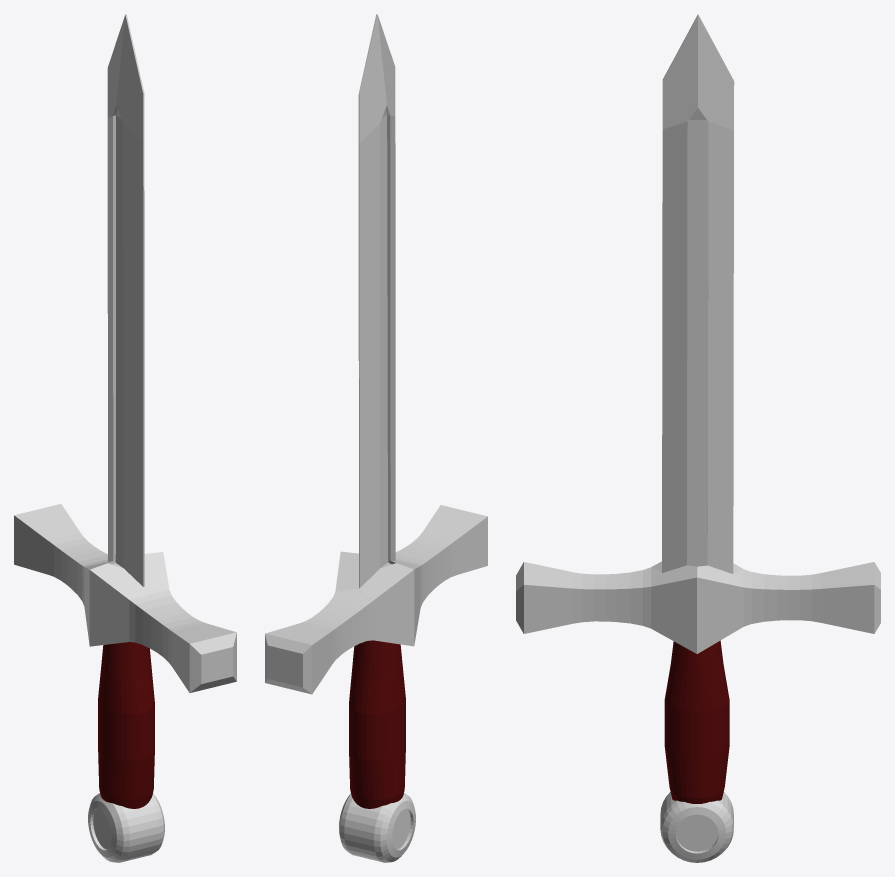
The model's file is SimpleSword.fbx.
3 renders of one model, left to right at view 1: azimuth 30°, elevation 25°; view 2: azimuth 150°, elevation 25°; view 3: azimuth 270°, elevation 25°, orthographic.
Parts seen in each view (by area): view 1: Cylinder.002, Cylinder.003, Cylinder.001; view 2: Cylinder.002, Cylinder.003, Cylinder.001; view 3: Cylinder.002, Cylinder.003, Cylinder.001.
Part boxes in pixels (x1,y1,x2,y2): Cylinder.002: (14, 14, 236, 692); Cylinder.003: (98, 642, 154, 808); Cylinder.001: (88, 793, 164, 862); Cylinder.002: (265, 14, 487, 694); Cylinder.003: (349, 640, 405, 808); Cylinder.001: (339, 793, 415, 862); Cylinder.002: (516, 14, 880, 653); Cylinder.003: (664, 640, 729, 803); Cylinder.001: (660, 792, 733, 862).
Size of the model in its own units: 6.79 by 74.3 by 29.23.
